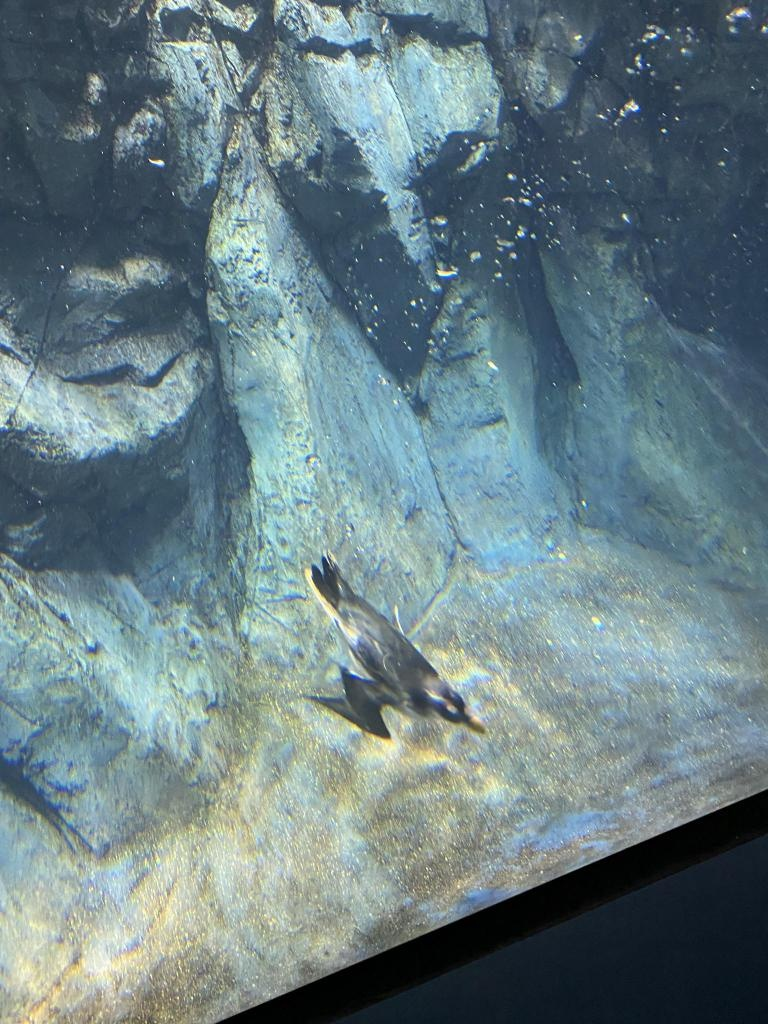puffin: (304, 548, 490, 742)
